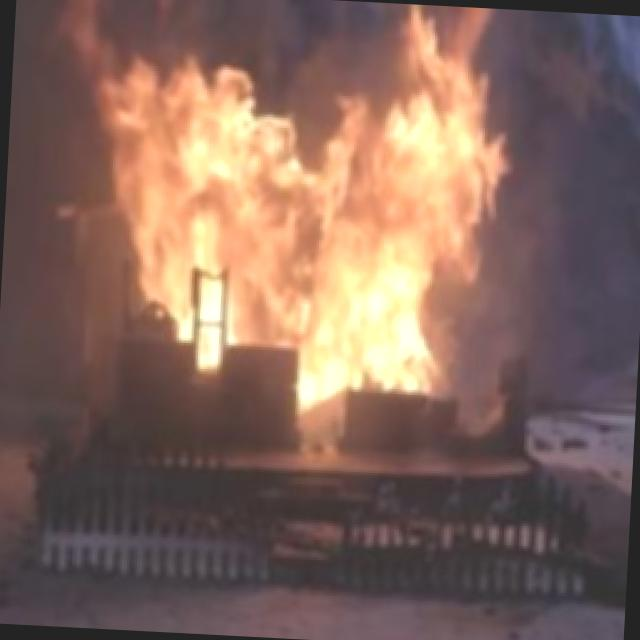fire: (69, 0, 520, 467)
